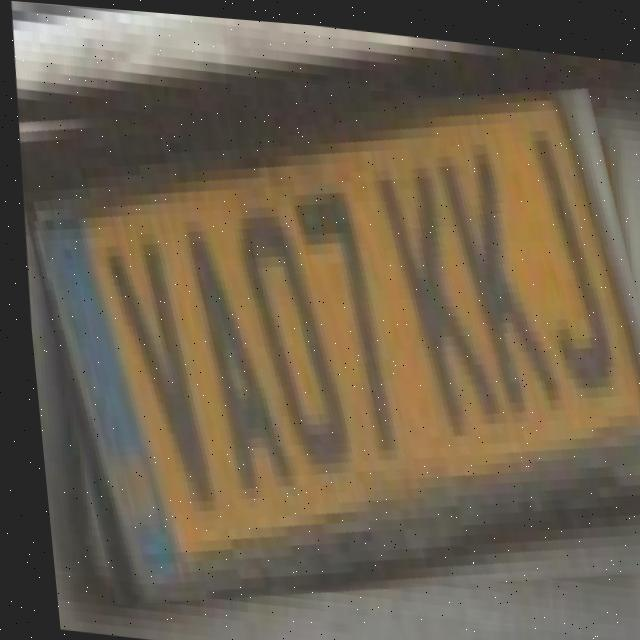LicensePlate: (3, 44, 640, 636)
